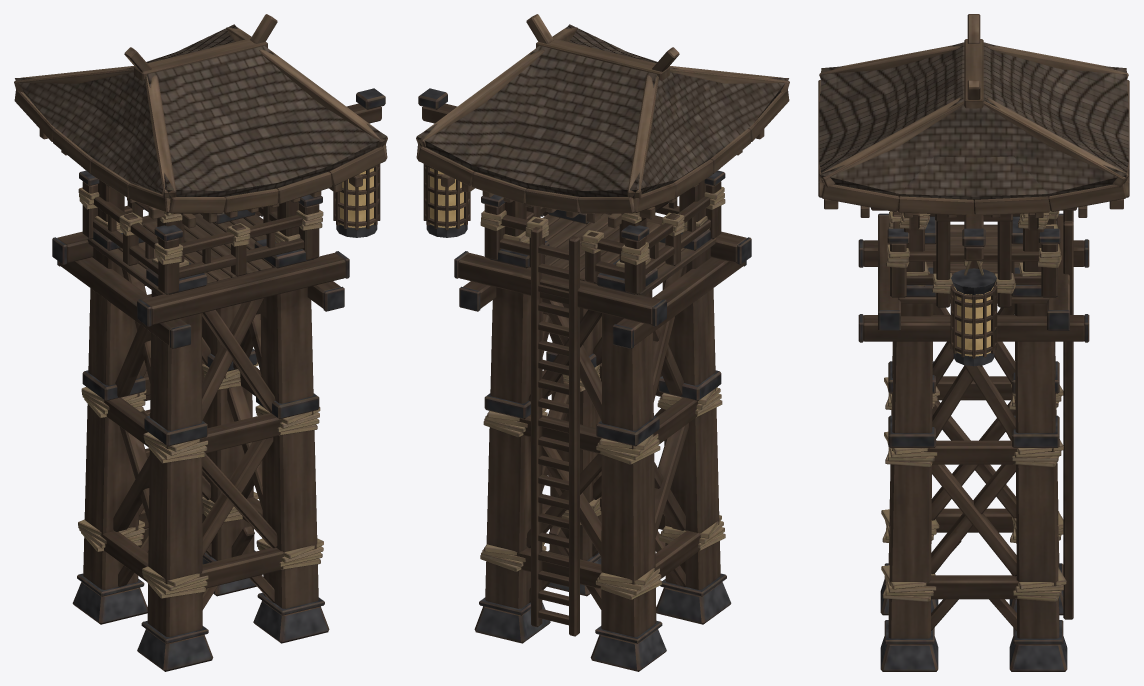
The model's file is watchtower-pusaka.glb.
The picture shows the model from 3 angles, left to right: view 1: azimuth 30°, elevation 25°; view 2: azimuth 150°, elevation 25°; view 3: azimuth 270°, elevation 25°; orthographic projection.
Parts seen in each view (by area): view 1: watchtower-pusaka; view 2: watchtower-pusaka; view 3: watchtower-pusaka.
Boxes of the visible parts, box(x1,y1,x2,y2) form: watchtower-pusaka: box(14, 14, 387, 671); watchtower-pusaka: box(416, 14, 789, 671); watchtower-pusaka: box(818, 14, 1129, 671).
Bounding box in the file's own units: 0.5257 × 1.01 × 0.486.
Materials: 1 (1 with a texture image).
